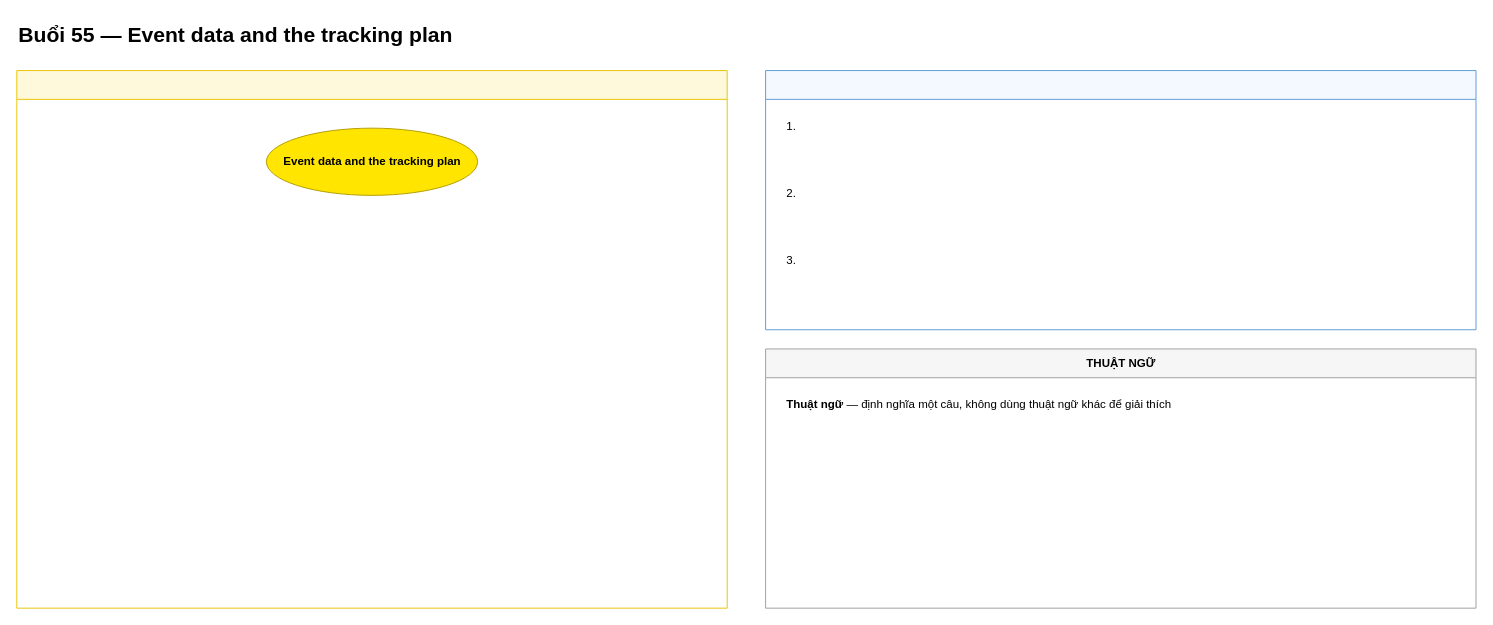
Some shapes in this 1493 by 625 pixel diagram are drawn without their labels. Here are the shapes that lost their labels. From the top down, the box of each, then its label:
(765, 70, 1476, 330): KEY TAKEAWAY — ba điều phải nhớ
(16, 70, 727, 608): MINDMAP
